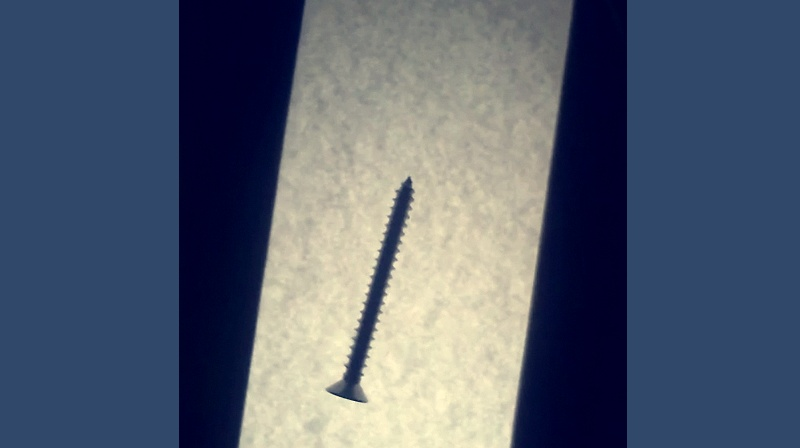S002: (321, 169, 416, 406)
